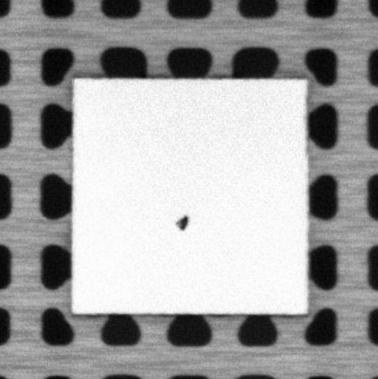DIE_INK: (172, 214, 191, 231)
